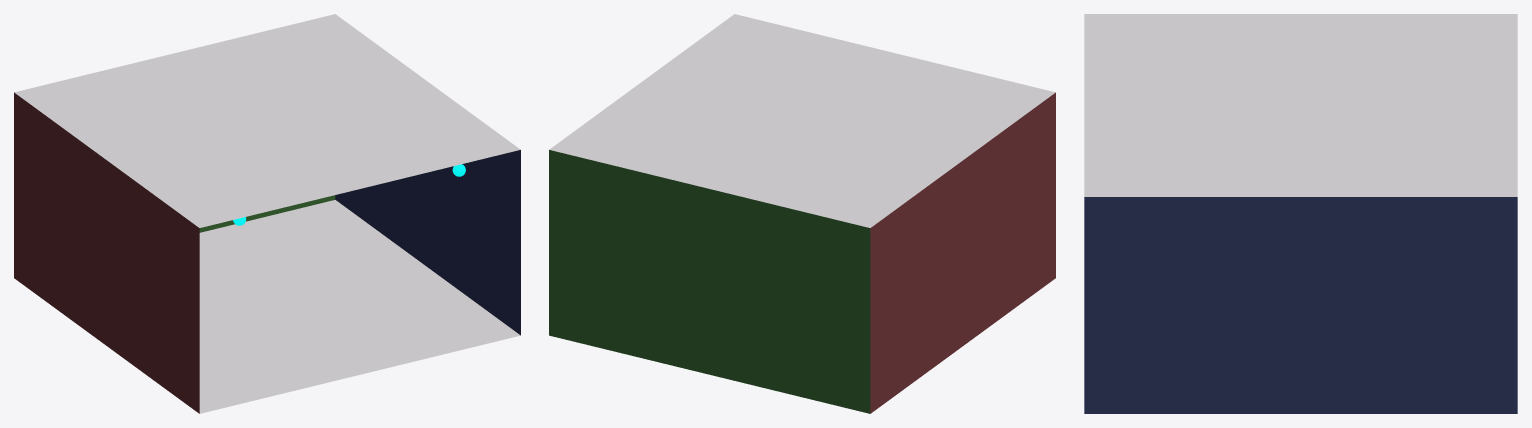
3 views of the same model, side by side, from view 1: azimuth 30°, elevation 25°; view 2: azimuth 150°, elevation 25°; view 3: azimuth 270°, elevation 25° (orthographic). The views are drawn at different scales.
Parts seen in each view (by area): view 1: Plane; view 2: Plane; view 3: Plane.
Part boxes in pixels (x1=…): Plane: x1=14, y1=14, x2=520, y2=413; Plane: x1=549, y1=14, x2=1055, y2=413; Plane: x1=1084, y1=14, x2=1517, y2=413.
Bounding box in the file's own units: 205 × 113 × 205.
